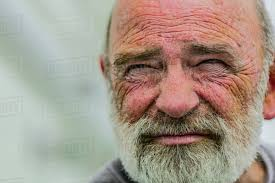white_male: (95, 28, 260, 172)
